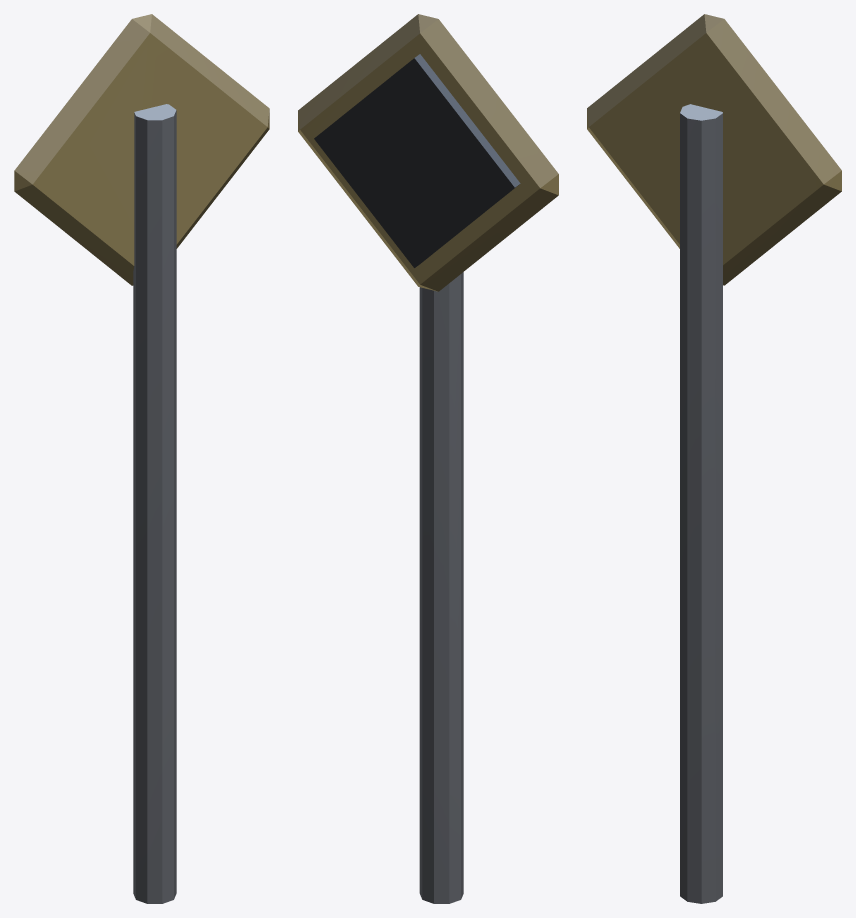
The model's file is sign_panel_c.glb.
3 views of the same model, side by side, from view 1: azimuth 30°, elevation 25°; view 2: azimuth 150°, elevation 25°; view 3: azimuth 330°, elevation 25° (orthographic). The views are drawn at different scales.
Visible parts, largest first — view 1: Prop, Panel; view 2: Prop, Panel; view 3: Prop, Panel.
Boxes of the visible parts, x1=… form: Prop: x1=133, y1=104, x2=176, y2=903; Panel: x1=14, y1=14, x2=269, y2=285; Prop: x1=314, y1=54, x2=520, y2=903; Panel: x1=298, y1=14, x2=558, y2=291; Prop: x1=680, y1=104, x2=722, y2=903; Panel: x1=587, y1=14, x2=841, y2=285.
Size of the model in its own units: 0.8907 by 2.9 by 0.2269.
